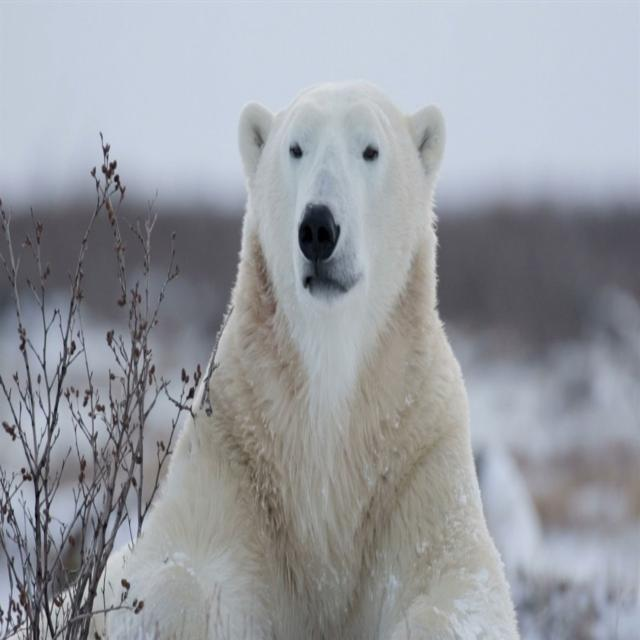Carnivorous: (92, 80, 522, 640)
